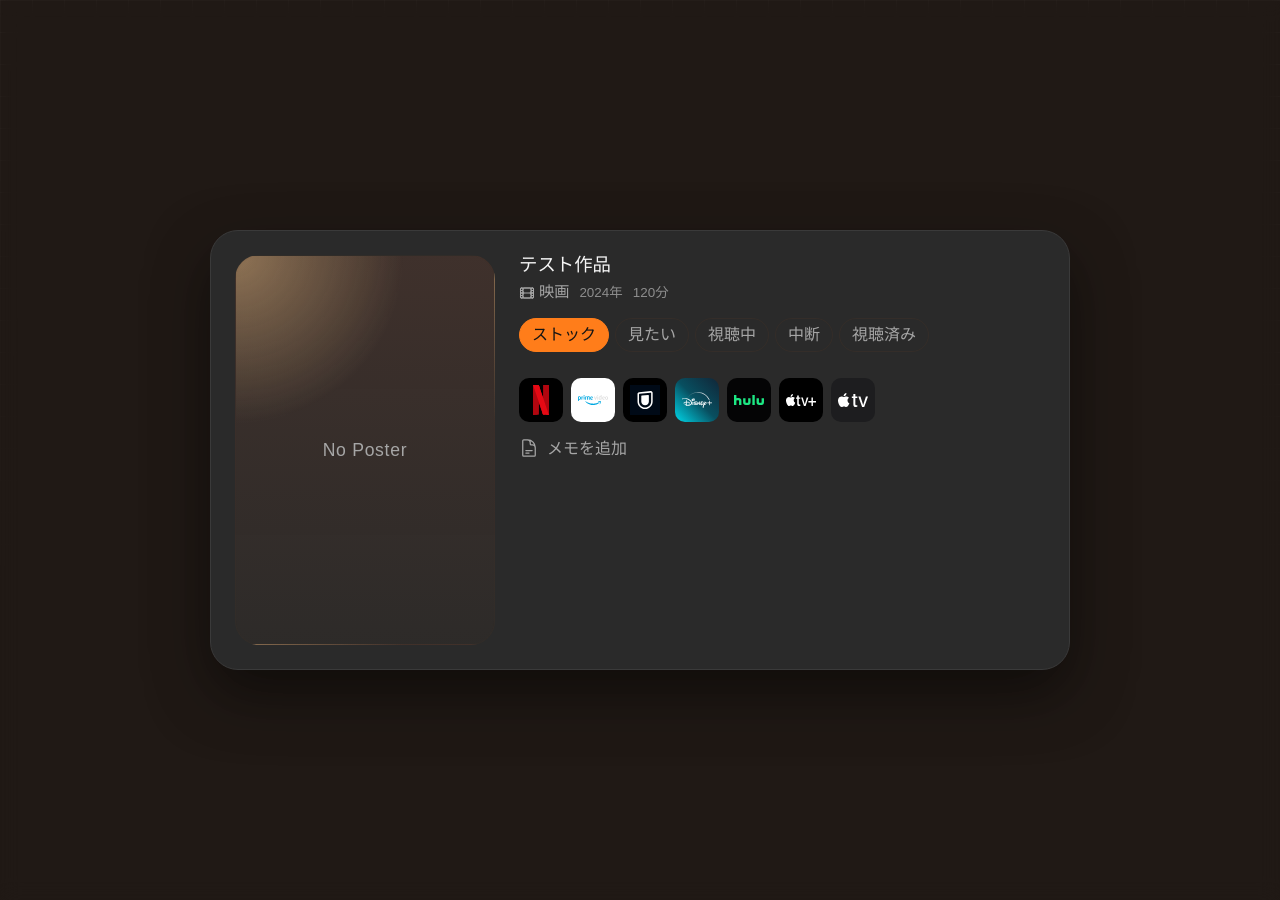
Test: DetailModal › 編集中に Escape を押すと編集だけキャンセルし、modal close しない
The width and height of the screenshot is (1280, 900).
Click the button "メモを追加".
click(587, 449)  # box [519,436,1041,462]
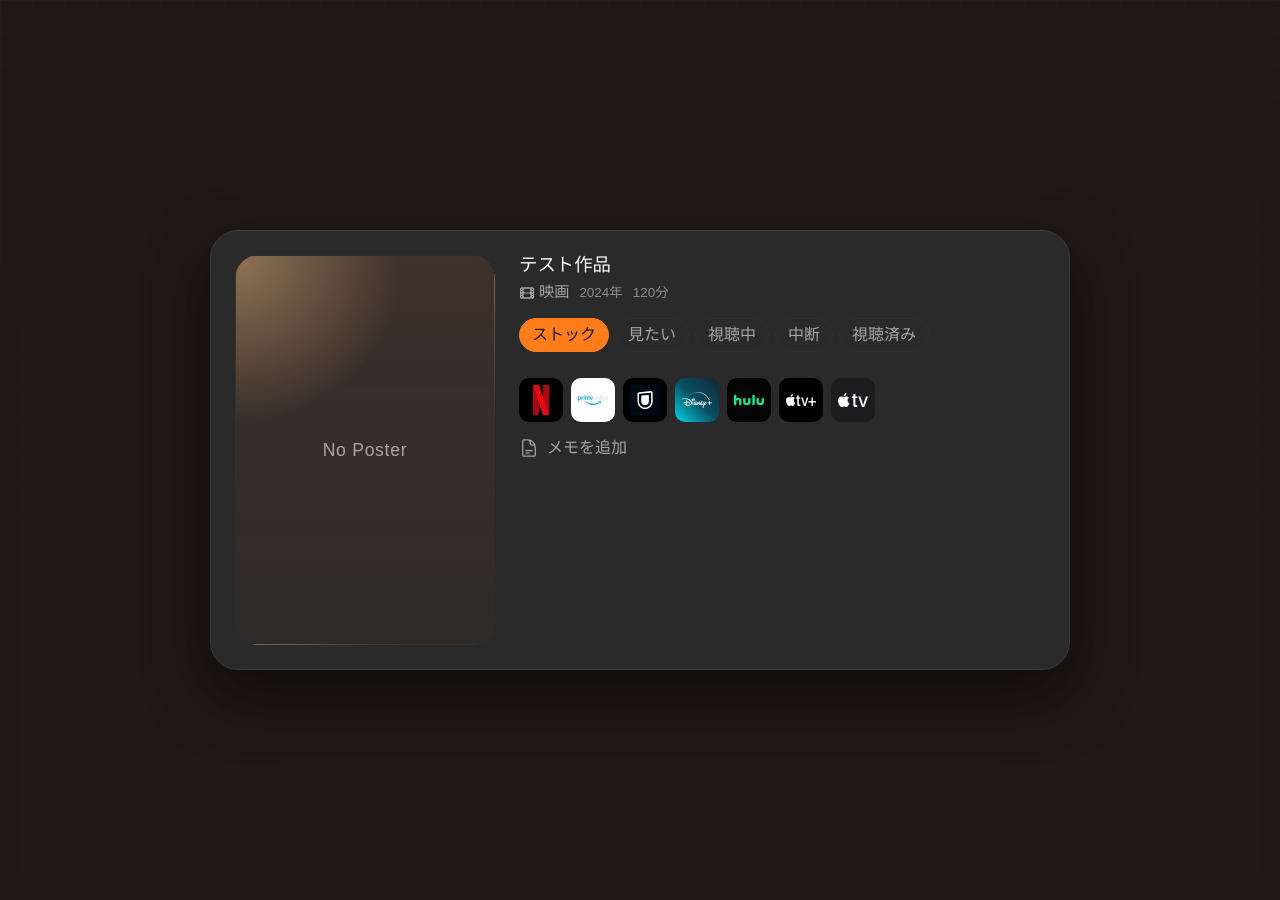
Now the text box is shown, box [547,436,1041,556]
Press Escape
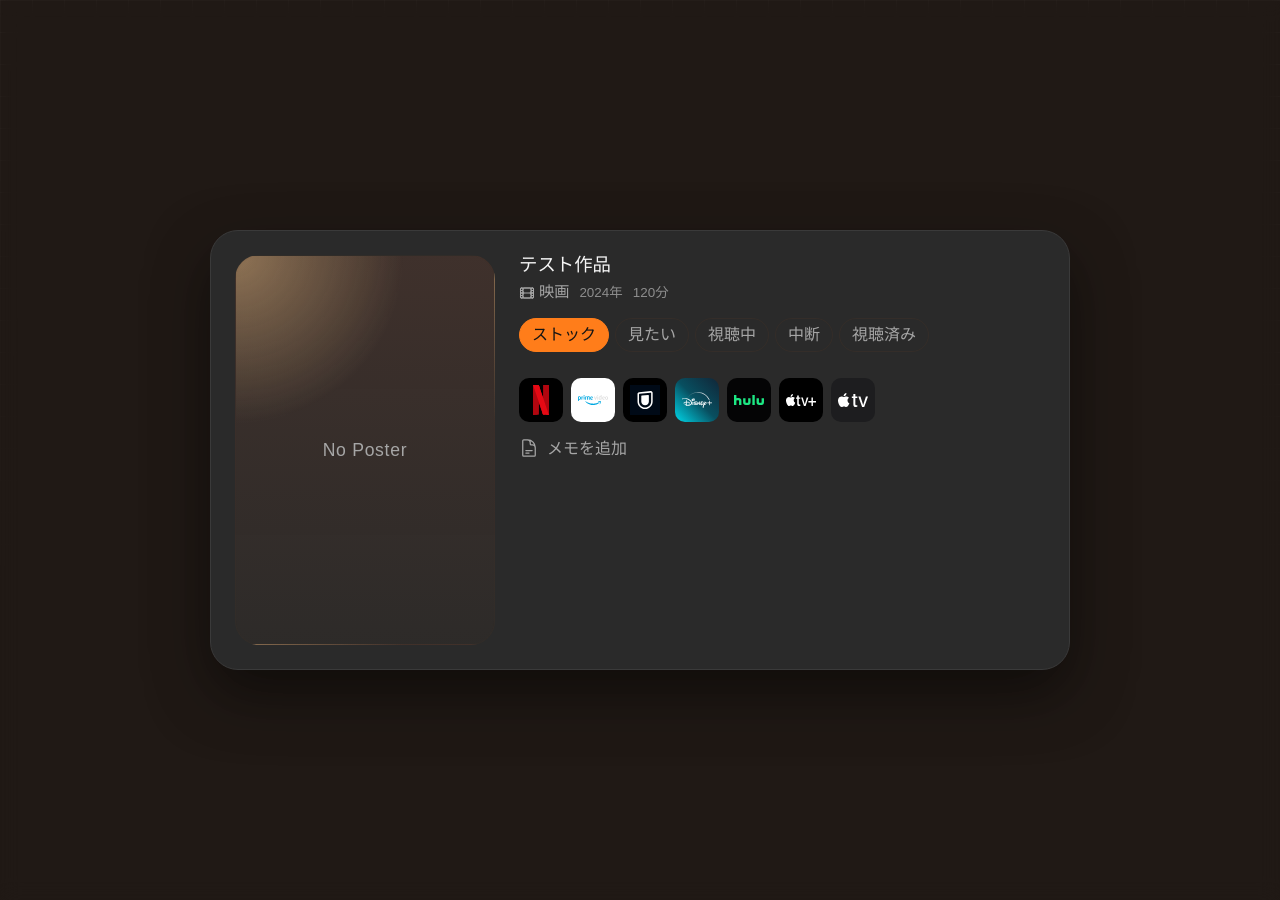
Now the button "メモを追加" is shown, box [519,436,1041,462]
